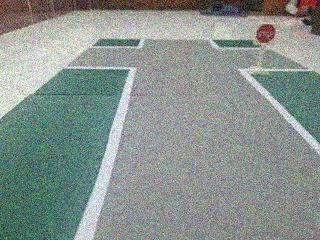stop: (254, 19, 282, 45)
